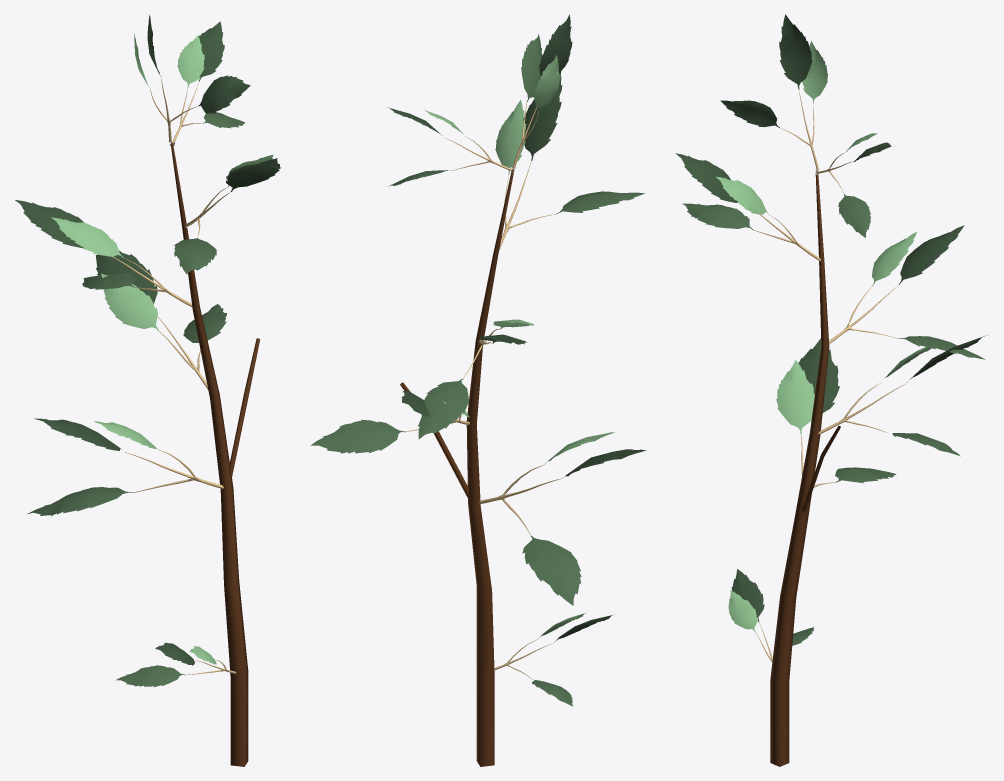
File: Tree8.fbx
3 views of the same model, side by side, from view 1: azimuth 30°, elevation 25°; view 2: azimuth 150°, elevation 25°; view 3: azimuth 270°, elevation 25° (orthographic). The views are drawn at different scales.
Visible parts, largest first — view 1: Árbol.002, Hojas|tree|Dupli|4, Hojas|tree|Dupli|, Hojas|tree|Dupli|5, Hojas|tree|Dupli|3, Hojas|tree|Dupli|2, Hojas|tree|Dupli|1, Hojas|tree|Dupli|6; view 2: Árbol.002, Hojas|tree|Dupli|2, Hojas|tree|Dupli|5, Hojas|tree|Dupli|1, Hojas|tree|Dupli|, Hojas|tree|Dupli|4, Hojas|tree|Dupli|6, Hojas|tree|Dupli|3; view 3: Árbol.002, Hojas|tree|Dupli|5, Hojas|tree|Dupli|1, Hojas|tree|Dupli|2, Hojas|tree|Dupli|, Hojas|tree|Dupli|6, Hojas|tree|Dupli|4, Hojas|tree|Dupli|3.
Boxes of the visible parts, x1,y1,x2,y2 form: Árbol.002: (170,142,260,766); Hojas|tree|Dupli|4: (95,250,226,389); Hojas|tree|Dupli|: (15,200,192,307); Hojas|tree|Dupli|5: (27,418,223,516); Hojas|tree|Dupli|3: (172,21,245,144); Hojas|tree|Dupli|2: (174,154,281,274); Hojas|tree|Dupli|1: (134,14,250,142); Hojas|tree|Dupli|6: (116,642,236,686); Árbol.002: (400,169,514,766); Hojas|tree|Dupli|2: (495,73,644,249); Hojas|tree|Dupli|5: (479,432,646,605); Hojas|tree|Dupli|1: (512,14,572,168); Hojas|tree|Dupli|: (418,319,533,439); Hojas|tree|Dupli|4: (310,391,469,453); Hojas|tree|Dupli|6: (494,612,612,706); Hojas|tree|Dupli|3: (387,107,512,186); Árbol.002: (770,170,840,766); Hojas|tree|Dupli|5: (776,338,896,487); Hojas|tree|Dupli|1: (720,14,827,170); Hojas|tree|Dupli|2: (675,153,820,261); Hojas|tree|Dupli|: (829,225,985,359); Hojas|tree|Dupli|6: (728,569,813,662); Hojas|tree|Dupli|4: (818,335,987,456); Hojas|tree|Dupli|3: (816,133,891,237).
Size of the model in its own units: 102 by 288 by 116.
